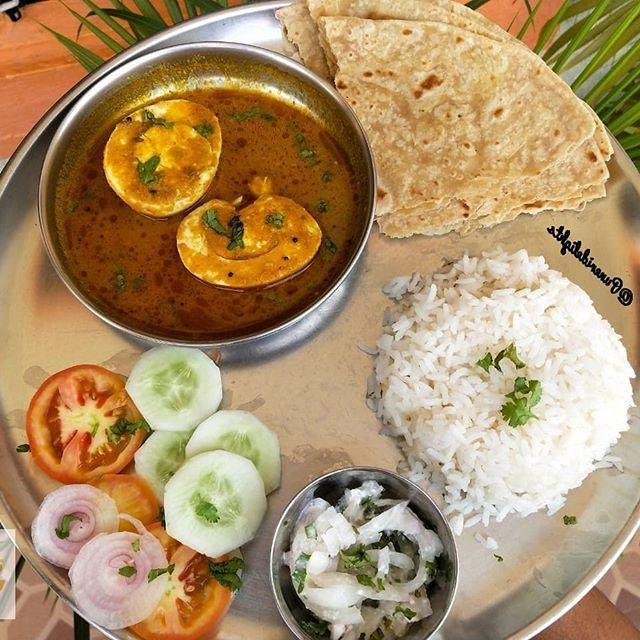Roti: (320, 12, 619, 238)
White Rice: (346, 263, 630, 497)
